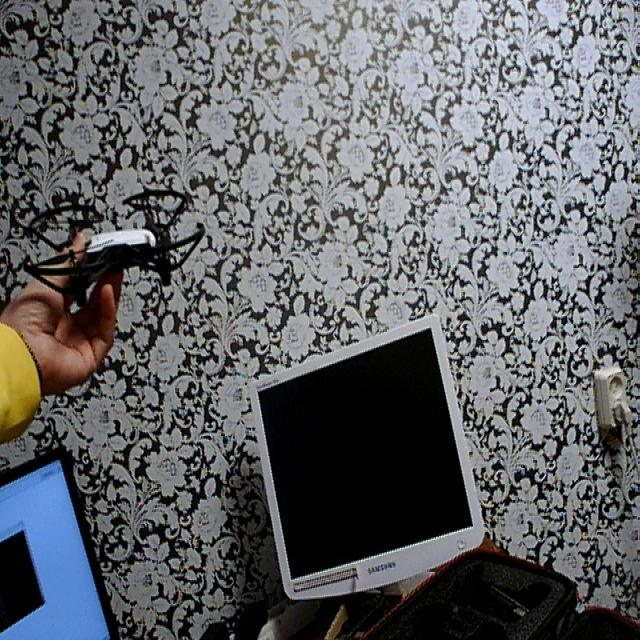drone: (13, 180, 213, 328)
